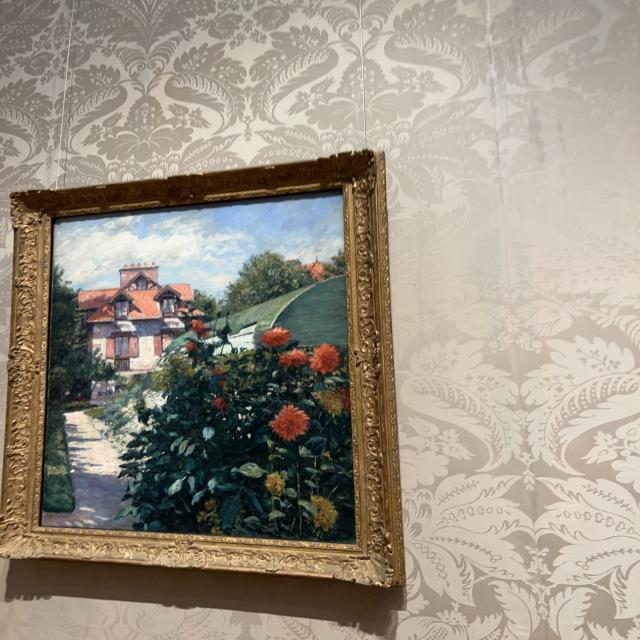summer: (42, 197, 351, 541)
